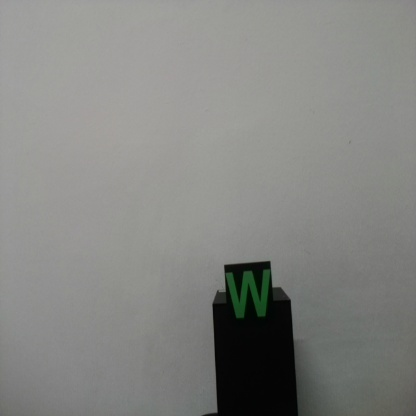id_12: (224, 263, 272, 331)
